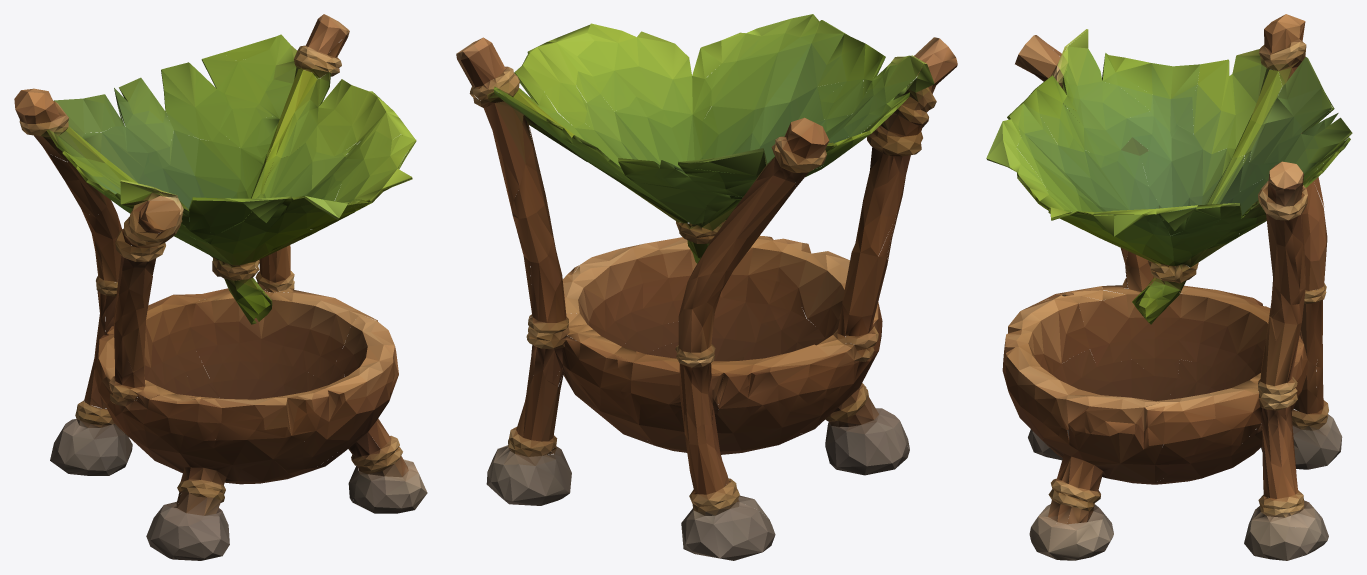
The model's file is building-rainBowl.glb.
3 views of the same model, side by side, from view 1: azimuth 30°, elevation 25°; view 2: azimuth 150°, elevation 25°; view 3: azimuth 270°, elevation 25° (orthographic). The views are drawn at different scales.
Parts seen in each view (by area): view 1: 0_rainBowl; view 2: 0_rainBowl; view 3: 0_rainBowl.
Boxes of the visible parts, x1,y1,x2,y2 form: 0_rainBowl: (14, 14, 427, 560); 0_rainBowl: (456, 14, 957, 560); 0_rainBowl: (986, 14, 1352, 560).
Bounding box in the file's own units: 1.31 × 1.5 × 1.22.
